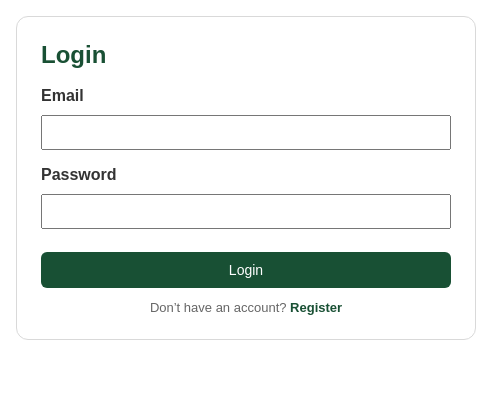
Test: Login › shows backend error message on failed login
In the field named "email": (246, 132) [41,115,451,150], type "wrong@example.com"
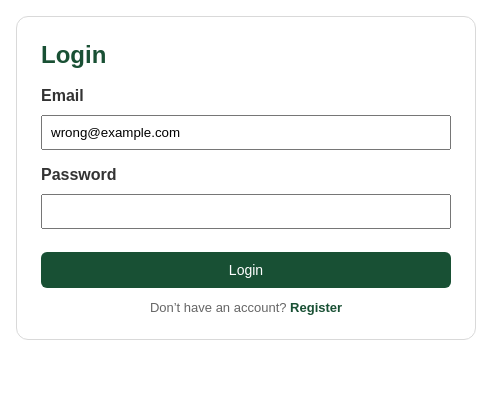
In the password field named "password": (246, 212) [41,194,451,229], type "wrong"
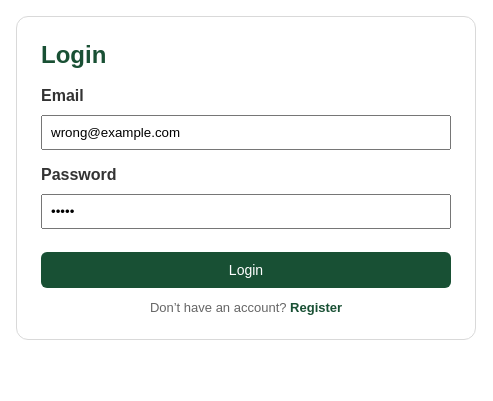
Click the button "Login": (246, 270) [41,252,451,288]
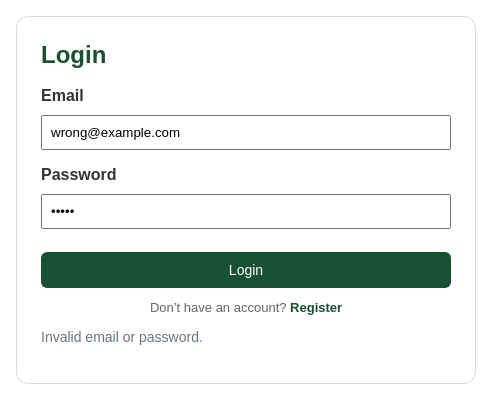
Check: the text "Invalid email or password." is shown, box [41,329,203,345]
